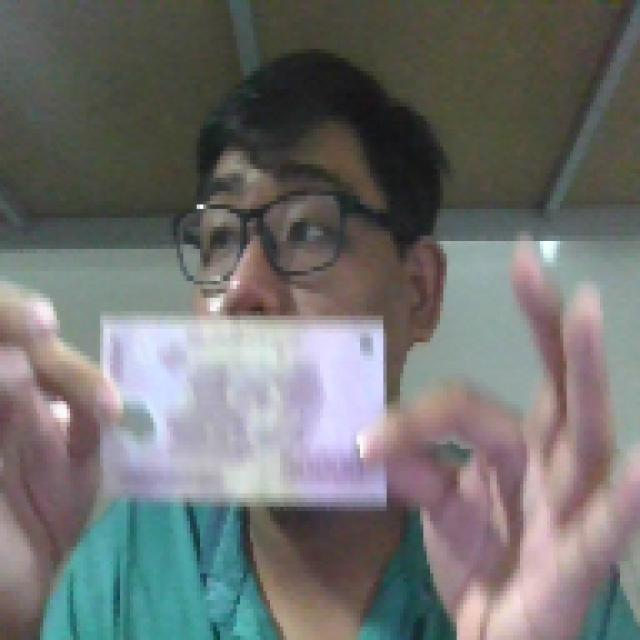50 000 VND: (94, 307, 394, 511)
